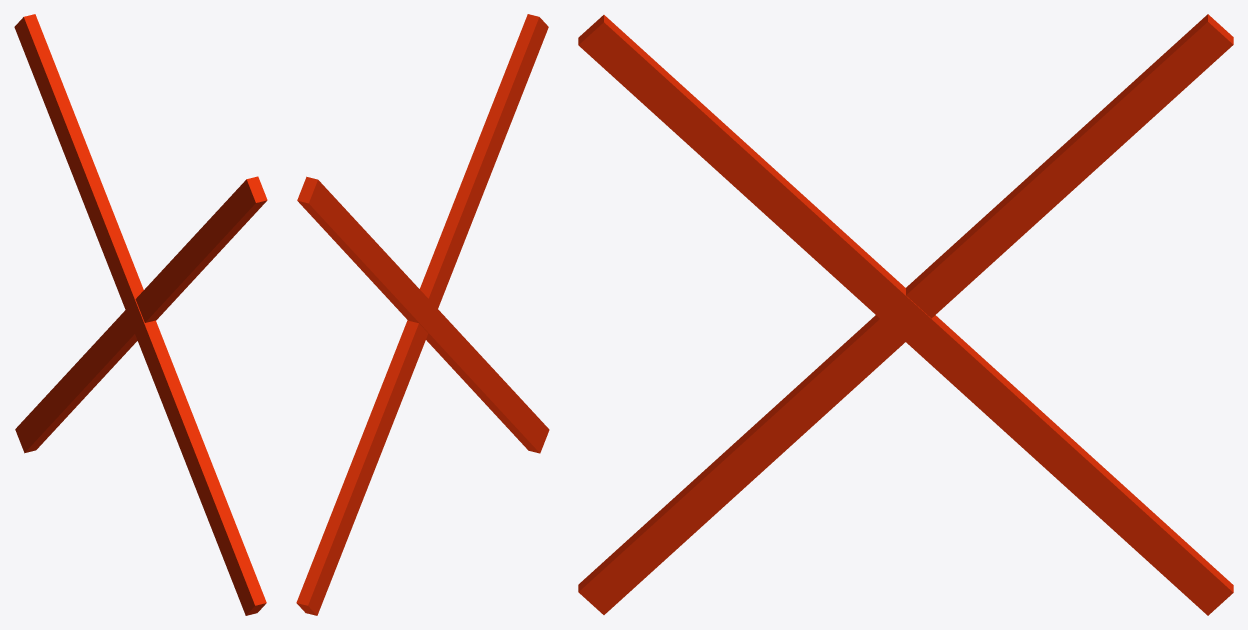
The model's file is Cross.fbx.
The picture shows the model from 3 angles, left to right: view 1: azimuth 30°, elevation 25°; view 2: azimuth 150°, elevation 25°; view 3: azimuth 270°, elevation 25°; orthographic projection. The views are drawn at different scales.
Parts seen in each view (by area): view 1: Cube.001; view 2: Cube.001; view 3: Cube.001.
Part boxes in pixels (<box>): Cube.001: <box>14,14,267,615</box>; Cube.001: <box>296,14,549,615</box>; Cube.001: <box>578,14,1233,615</box>.
Bounding box in the file's own units: 0.0353 × 1.18 × 1.18.
